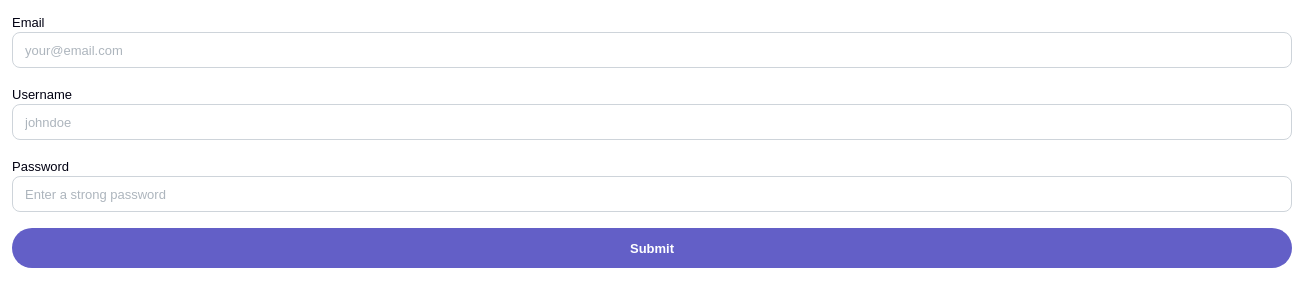
ExampleForm › should validate email format
The width and height of the screenshot is (1304, 303).
Type "invalid-email" into the field with test id "input-email". click: (652, 50)
box: x1=12 y1=32 x2=1292 y2=68
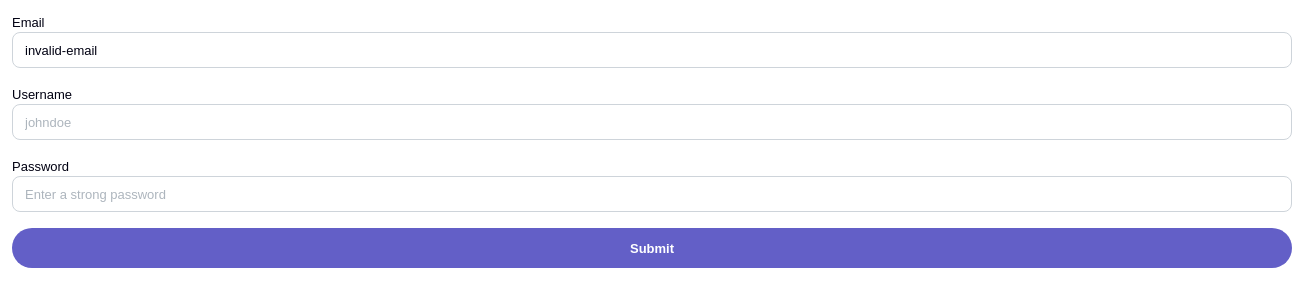
Leave the field with test id "input-email", box x1=12 y1=32 x2=1292 y2=68
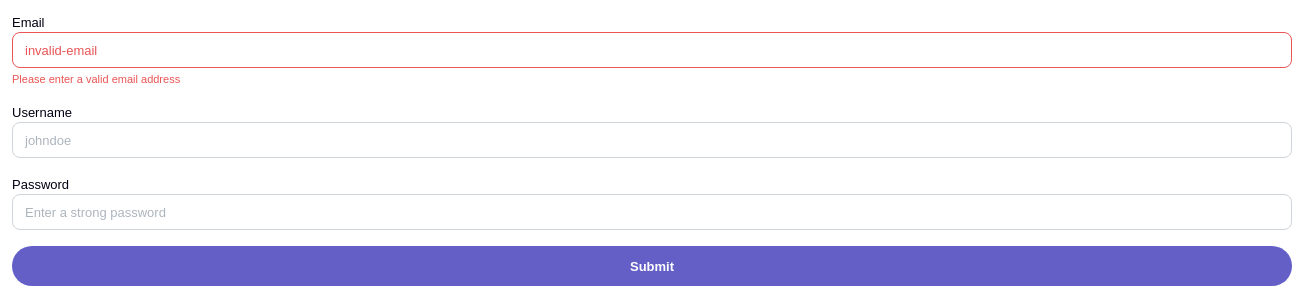
Expected: the text "Please enter a valid email address" is shown, x1=12 y1=73 x2=180 y2=85
